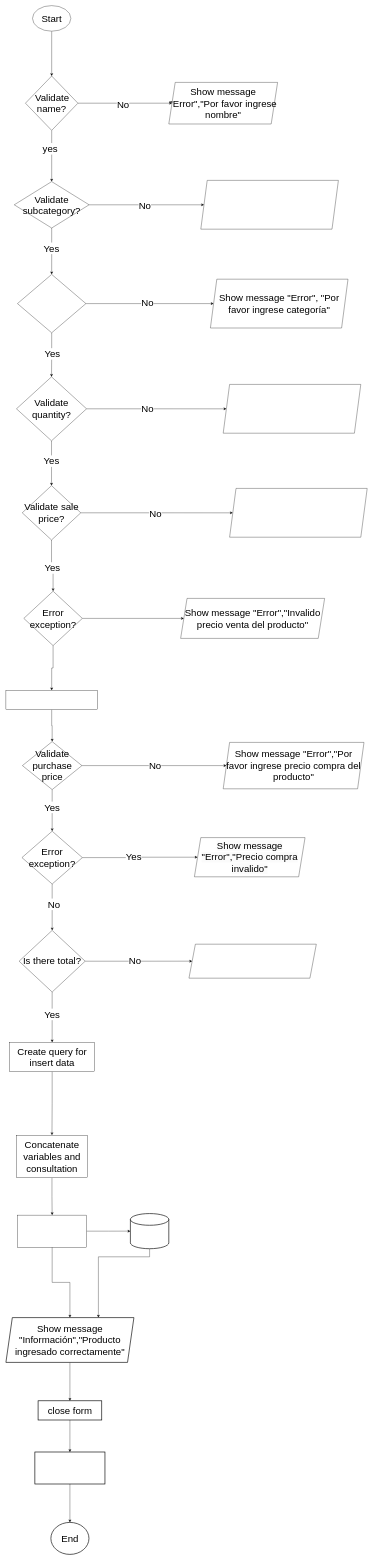
Some shapes in this 373 by 1560 pixel diagram are drawn without their labels. Each missing label, with the box of its shape:
Connect data base: (17, 1215, 87, 1247)
Convert float(): (6, 690, 97, 710)
Show message "Error", "Debe calcular el total": (189, 944, 316, 978)
Show message "Error", "Por favor ingresar venta del producto": (229, 488, 367, 537)
Show message "Error", "Por favor ingrese cantidad de producto disponibles": (223, 384, 361, 433)
Show message "Error", "Por favor ingrese sub categoría": (200, 180, 338, 229)
Show product list: (34, 1452, 105, 1484)
Store.db: (130, 1213, 169, 1249)
Validate category?: (17, 274, 86, 333)
